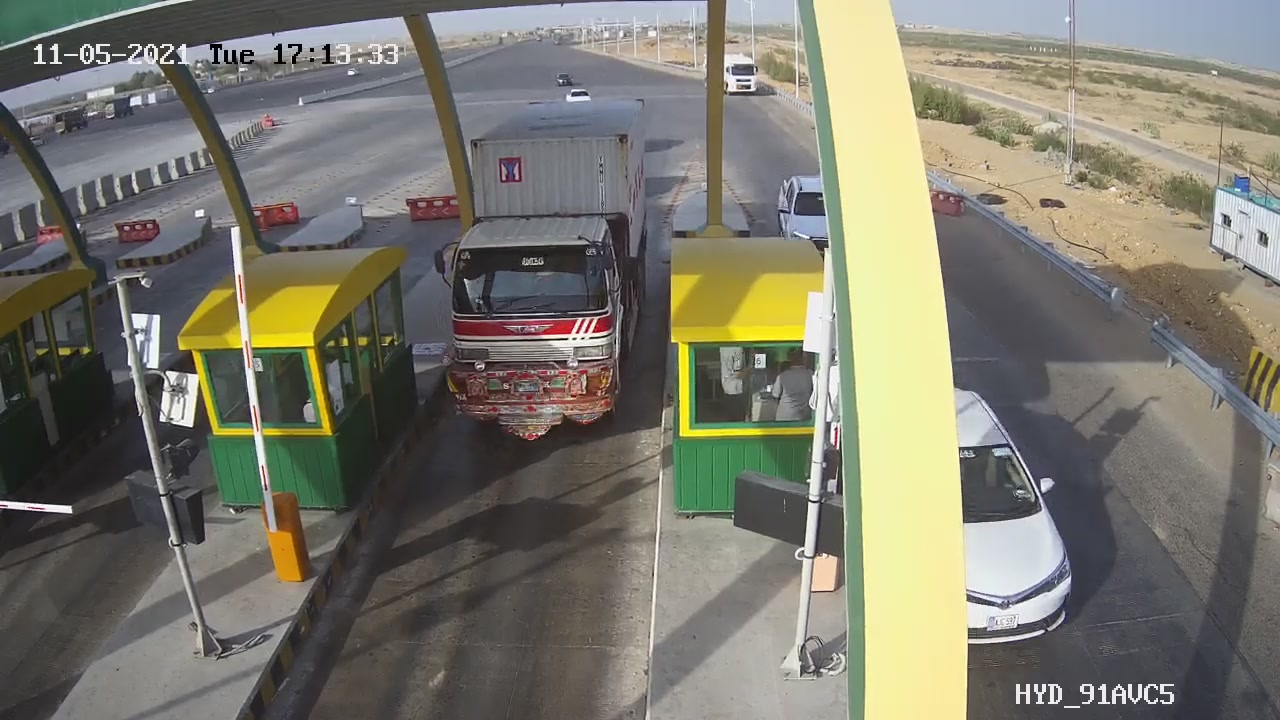F6: (409, 87, 673, 456)
